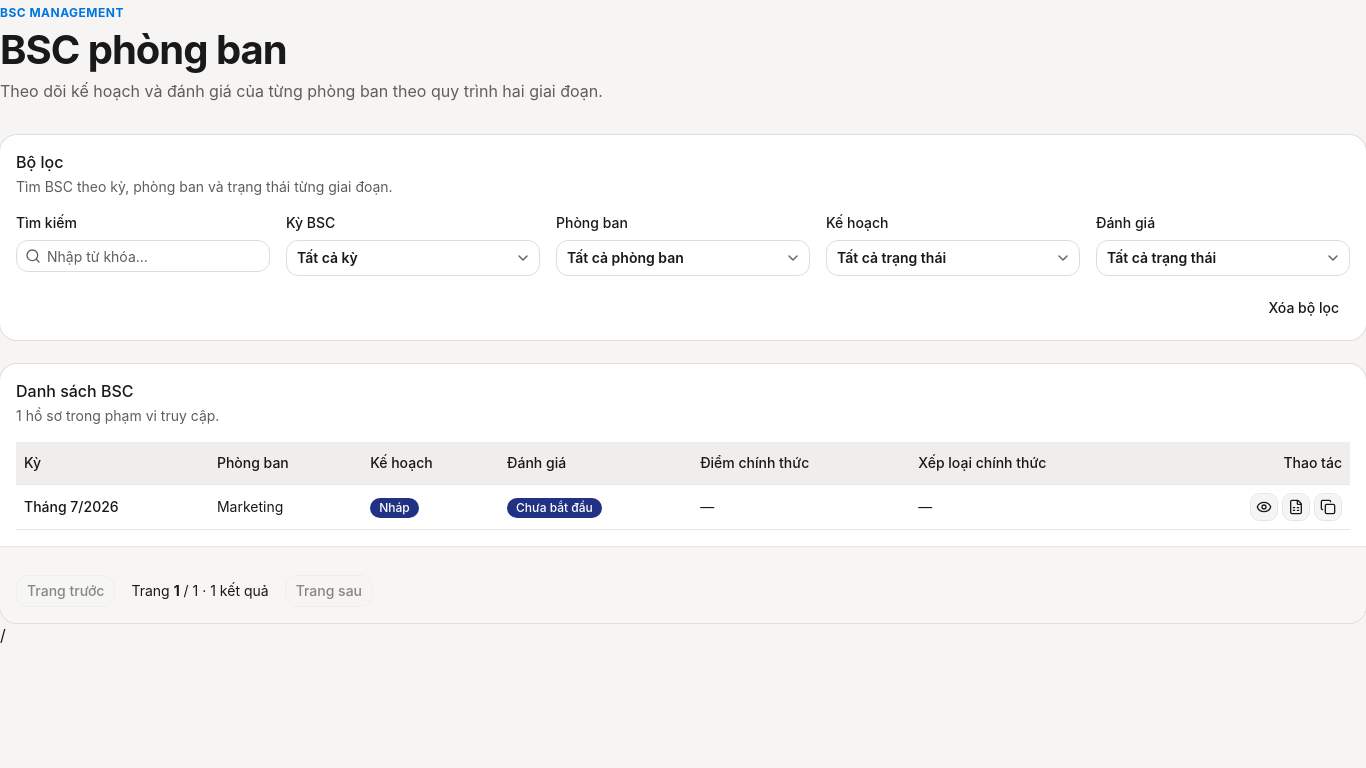
Test case: DepartmentBscListPage actions › duplicates into a selected open cycle and opens the new BSC
Click the button named "Sao chép BSC" at coordinates (1328, 507), box [1314,493,1342,521]
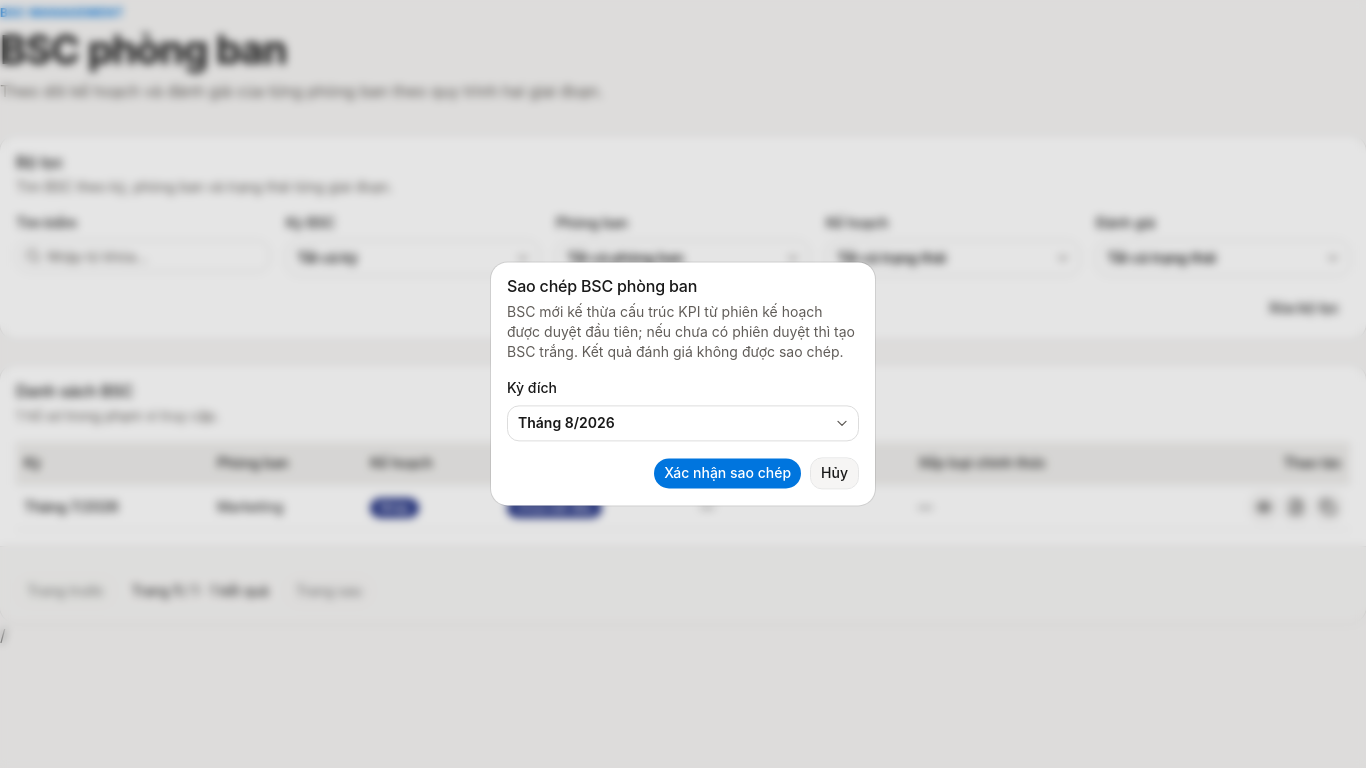
Now the dialog "Sao chép BSC phòng ban" is shown, box [491,262,875,506]
Click the dropdown named "Kỳ đích" at coordinates (566, 423), box [507,406,859,442]
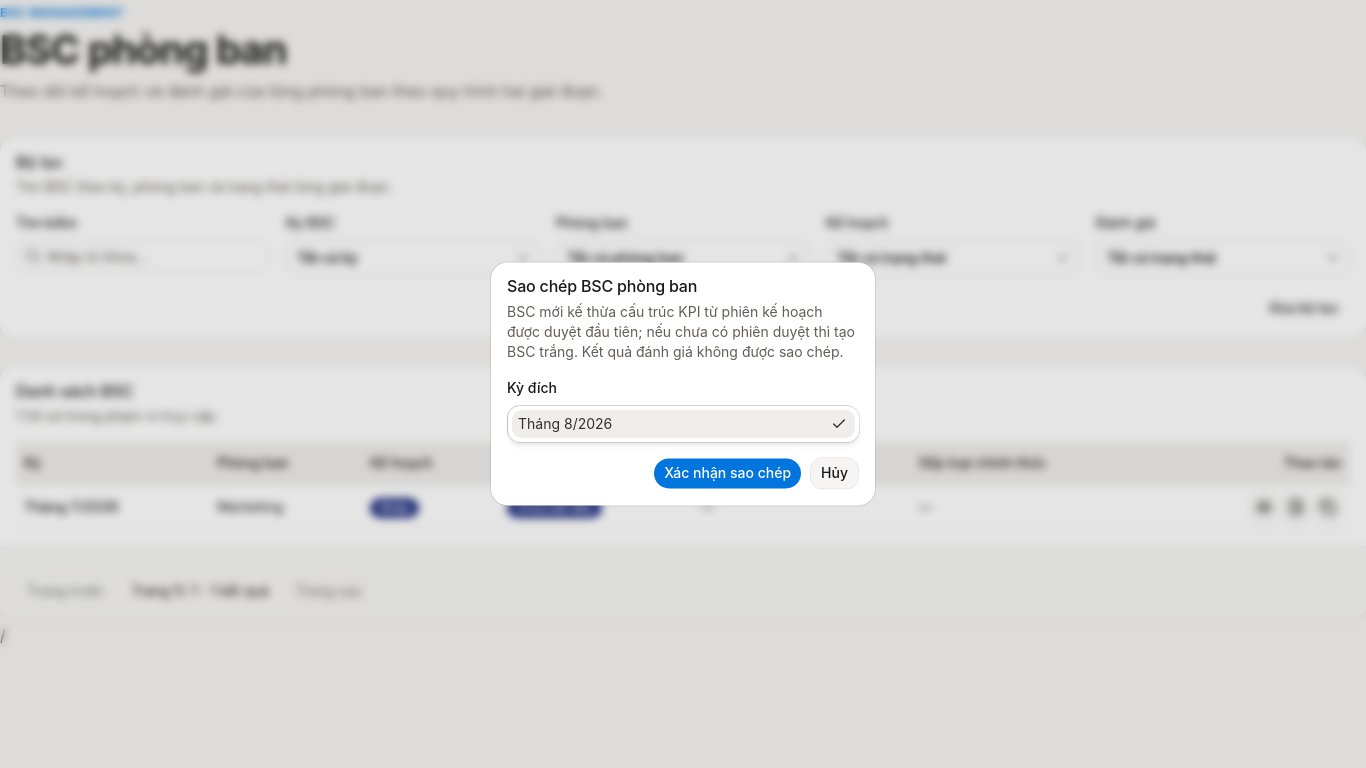
Click the option "Tháng 8/2026" at coordinates (565, 423), box [512,410,855,438]
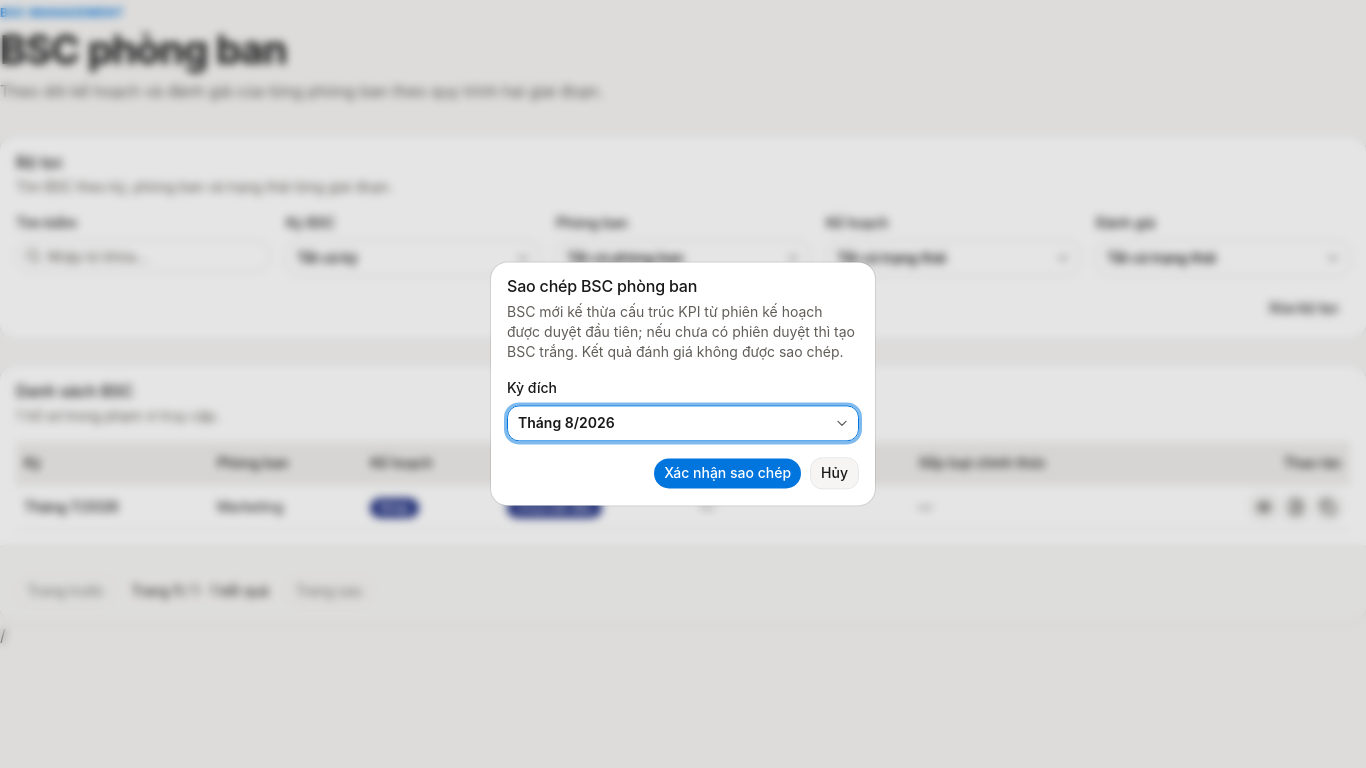
Click the button "Xác nhận sao chép" at coordinates (728, 474), box [653,458,802,490]
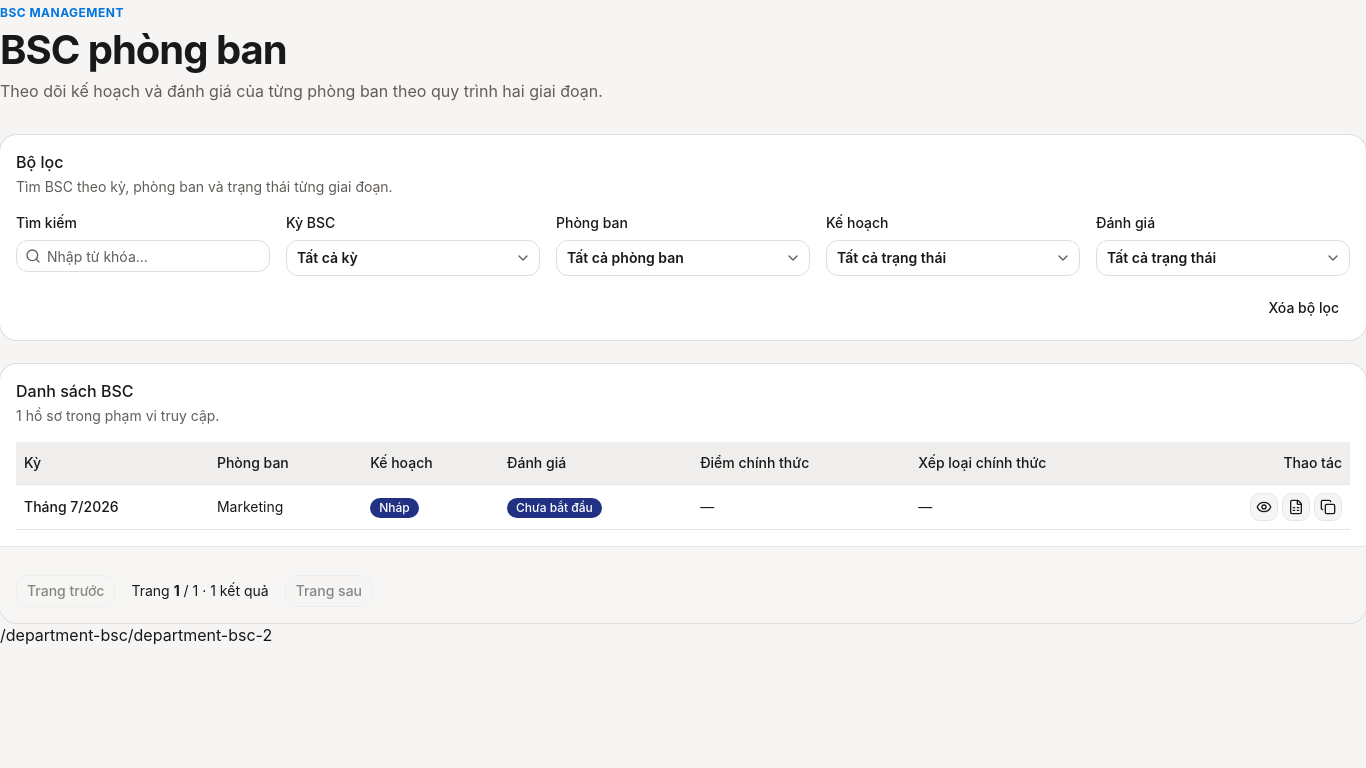
Now the text named "current-location" reads "/department-bsc/department-bsc-2", box [0,625,272,645]
